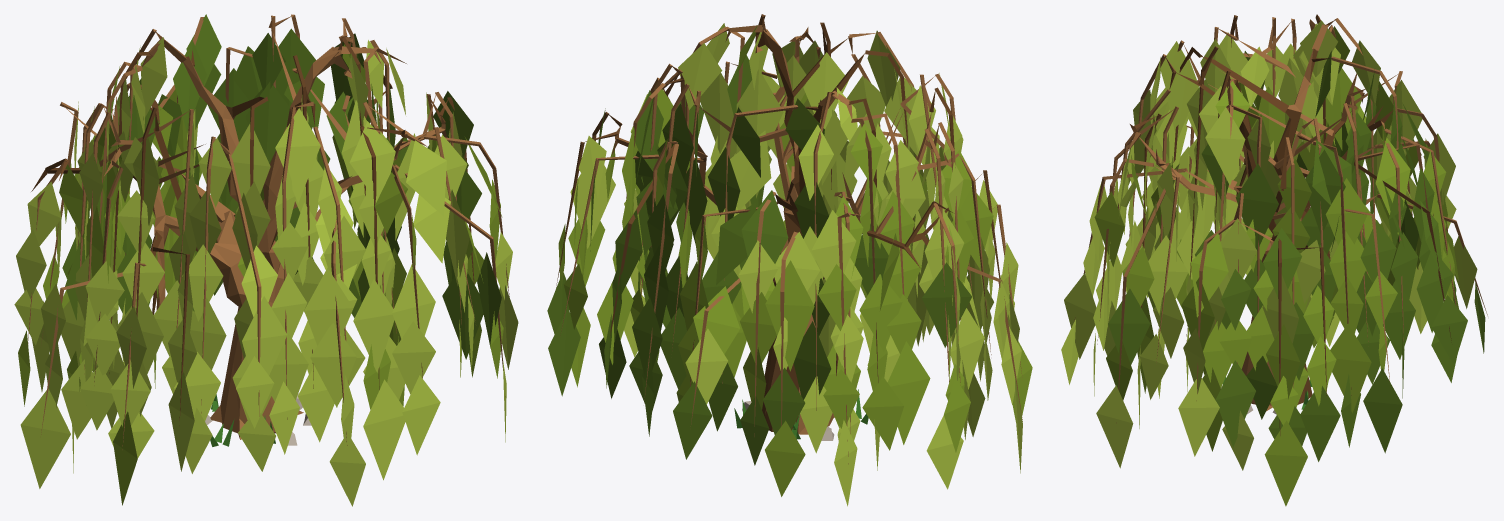
File: willow_bloom.glb
The picture shows the model from 3 angles, left to right: view 1: azimuth 30°, elevation 25°; view 2: azimuth 150°, elevation 25°; view 3: azimuth 270°, elevation 25°; orthographic projection. The views are drawn at different scales.
Visible parts, largest first — view 1: willow_bloom; view 2: willow_bloom; view 3: willow_bloom.
Part boxes in pixels (<box>): willow_bloom: <box>14,14,518,506</box>; willow_bloom: <box>547,14,1032,506</box>; willow_bloom: <box>1061,14,1487,506</box>.
Bounding box in the file's own units: 8.57 × 7.2 × 7.55.
